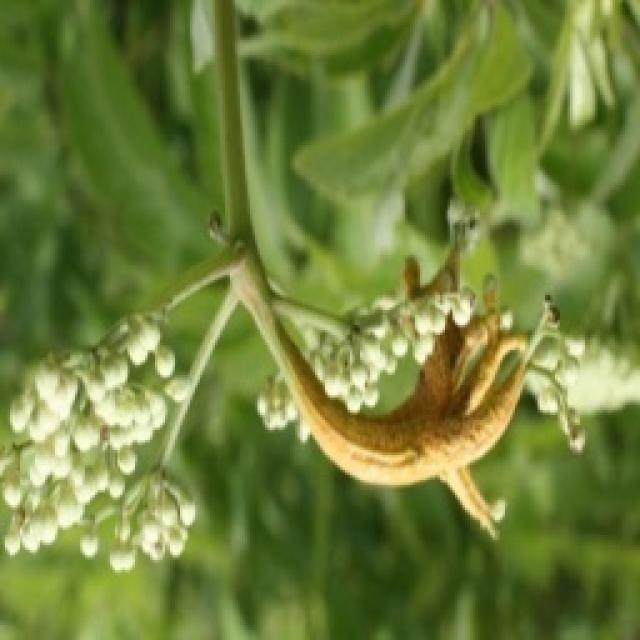Elderberry_rust: (297, 314, 552, 528)
